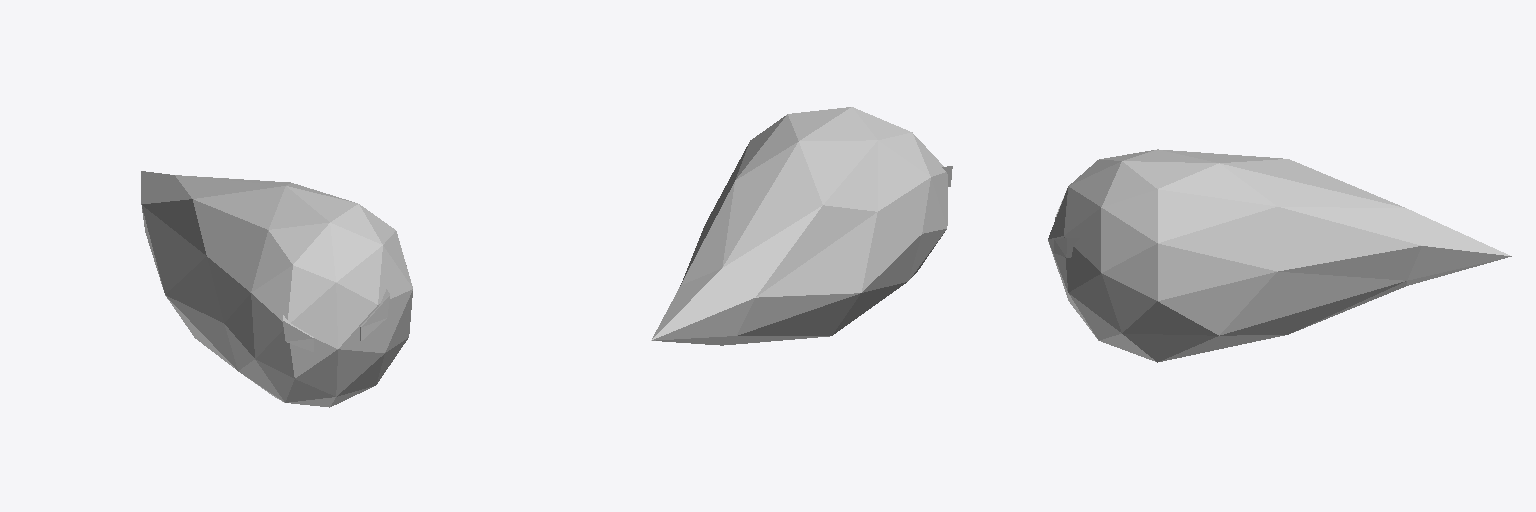
Rendered from eel6.obj.
3 renders of one model, left to right at view 1: azimuth 30°, elevation 25°; view 2: azimuth 150°, elevation 25°; view 3: azimuth 270°, elevation 25°, orthographic.
Visible parts, largest first — view 1: Icosphere; view 2: Icosphere; view 3: Icosphere.
Boxes of the visible parts, x1,y1,x2,y2 form: Icosphere: [141, 171, 412, 407]; Icosphere: [651, 107, 952, 345]; Icosphere: [1048, 149, 1511, 362].
Size of the model in its own units: 2 by 1.9 by 4.33.